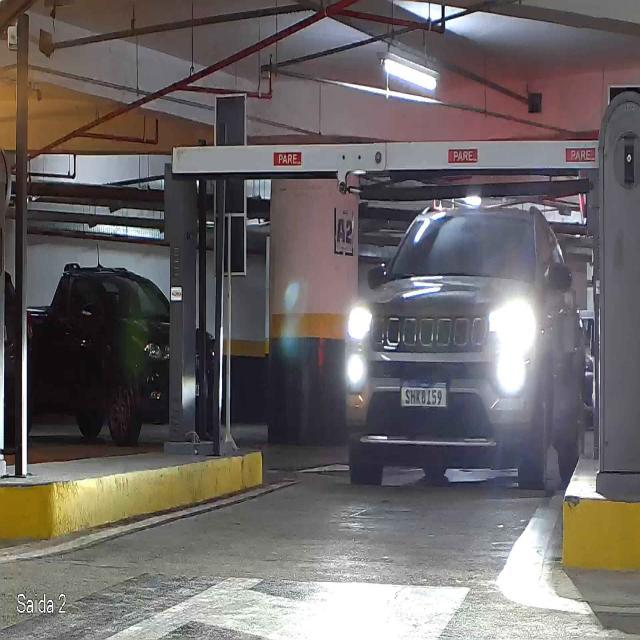mercosul_plate: (399, 382, 449, 409)
